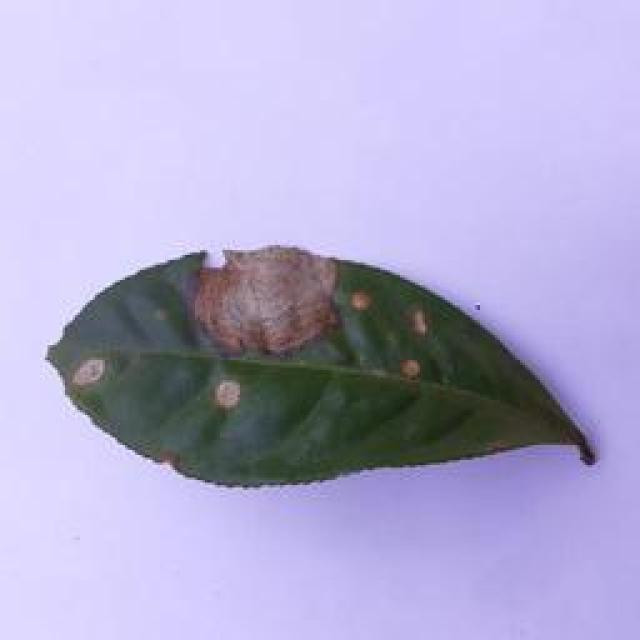Gray Blight: (40, 245, 600, 488)
